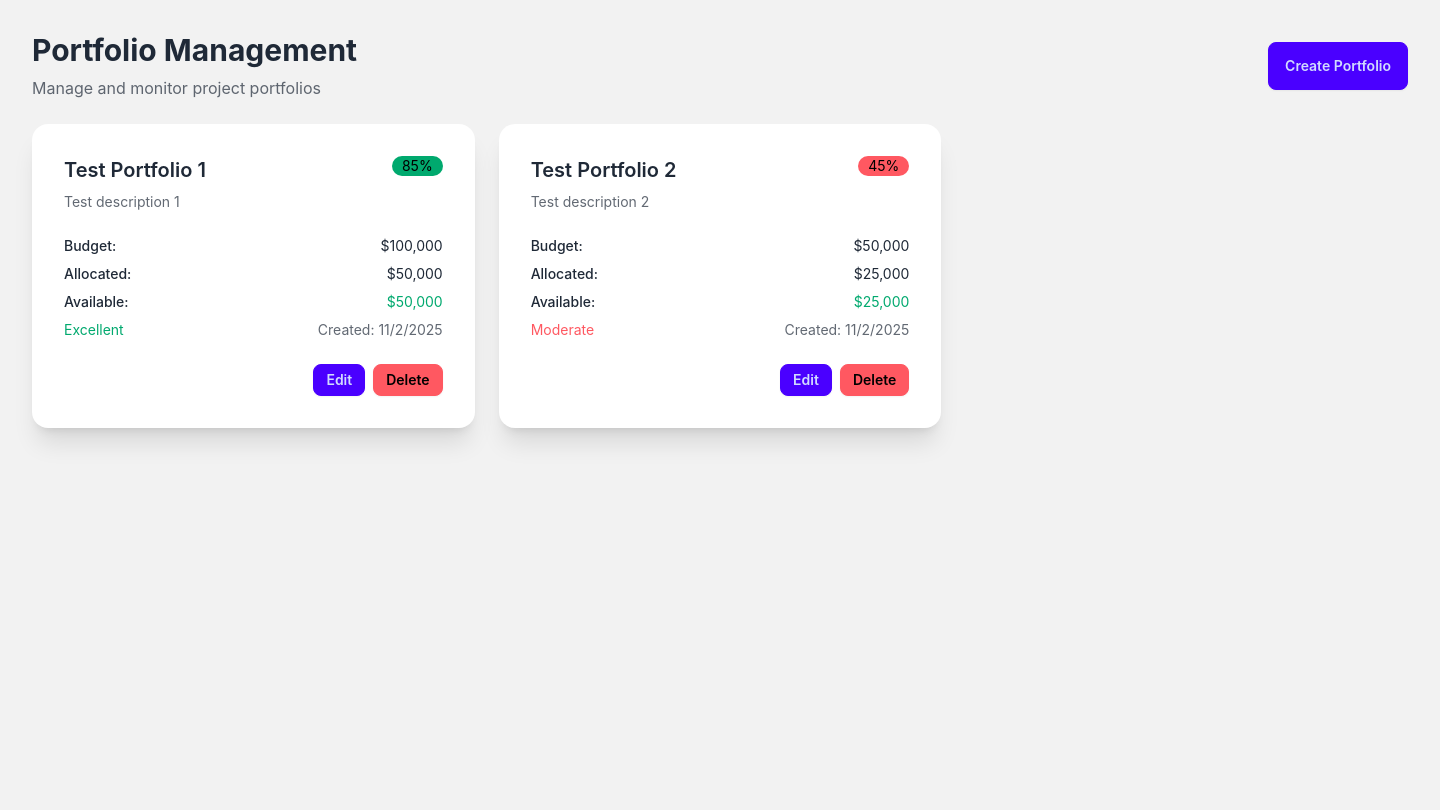
PortfolioList › shows create portfolio form when create button is clicked
What coordinates should you click on to do the following:
click the button "Create Portfolio"
I would click on:
 (1338, 66)
Its box is [1268, 42, 1408, 90].
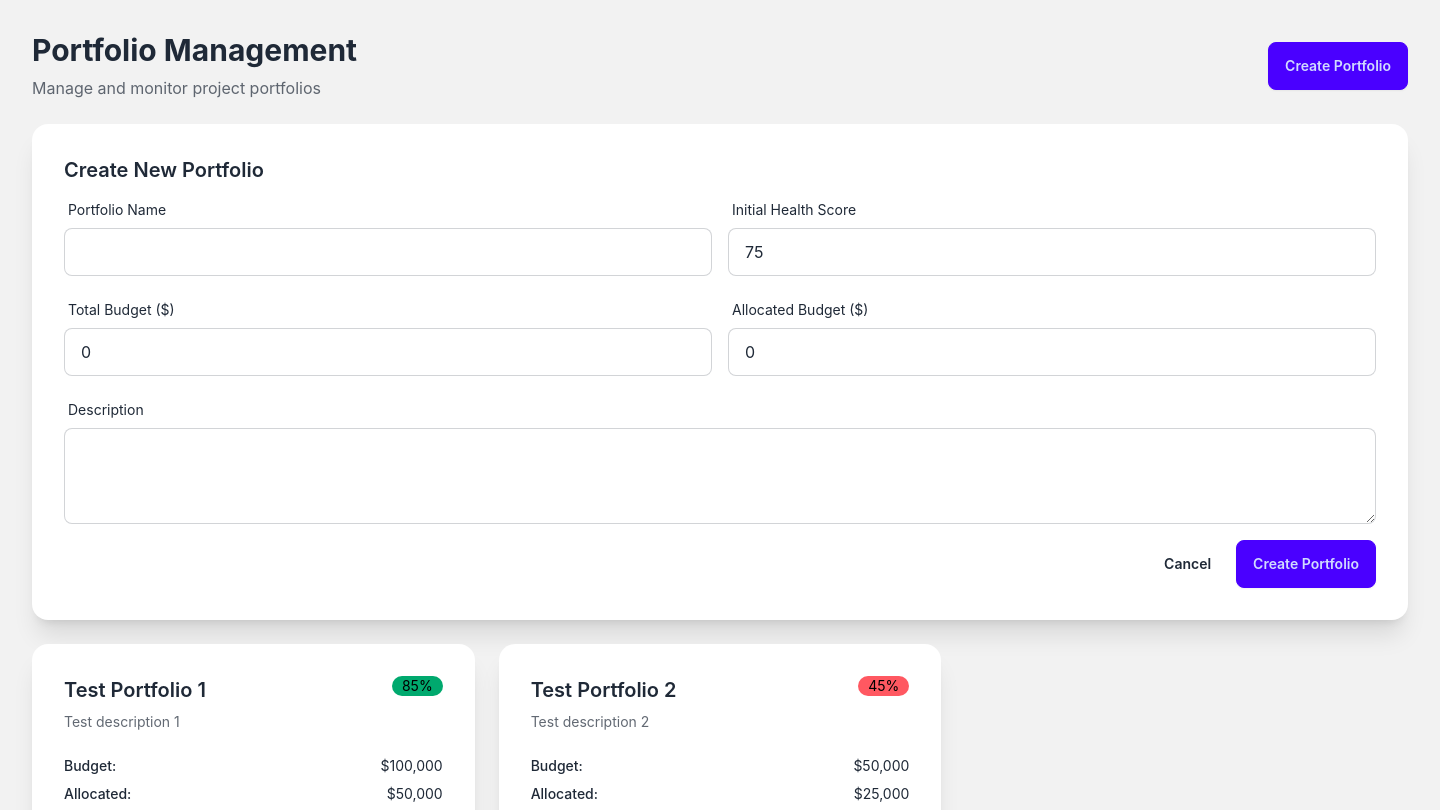
Result: the heading "Create New Portfolio" is shown at [64, 158, 264, 182]
Result: the field labelled "Portfolio Name" is shown at [64, 228, 712, 276]
Result: the text box labelled "Description" is shown at [64, 428, 1376, 524]
